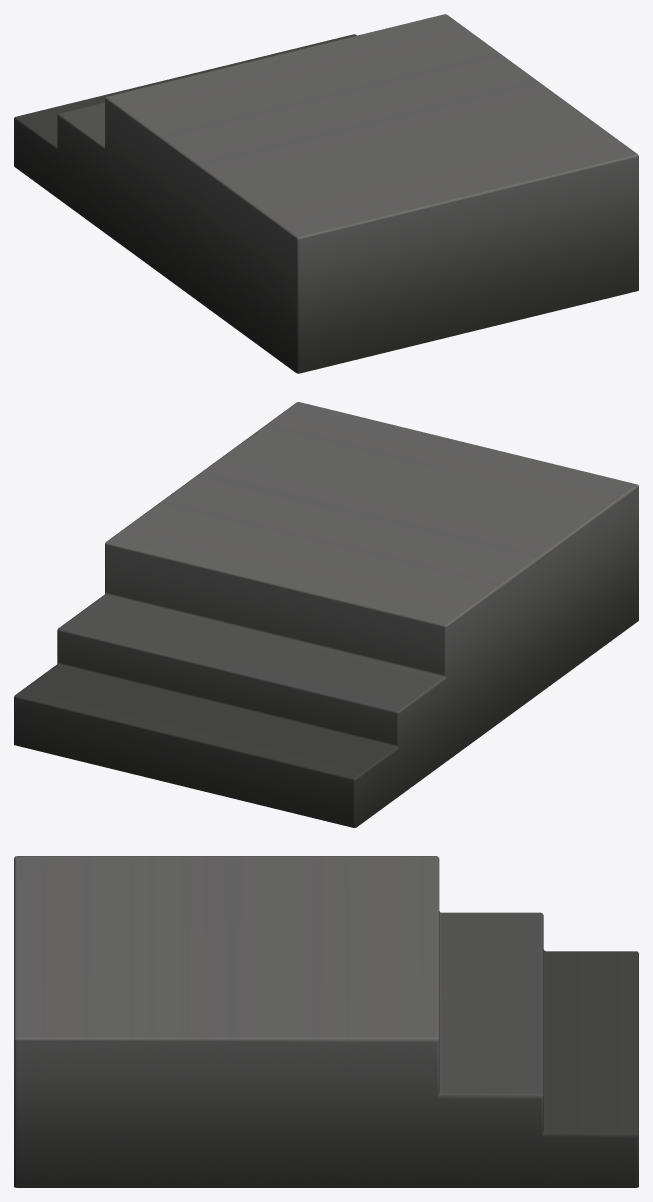
File: Escada Altar.fbx
The picture shows the model from 3 angles, top to bottom: view 1: azimuth 30°, elevation 25°; view 2: azimuth 150°, elevation 25°; view 3: azimuth 270°, elevation 25°; orthographic projection. The views are drawn at different scales.
Parts seen in each view (by area): view 1: Escada Altar; view 2: Escada Altar; view 3: Escada Altar.
Part boxes in pixels (bbox=[...]): Escada Altar: bbox=[14, 14, 638, 373]; Escada Altar: bbox=[14, 402, 638, 827]; Escada Altar: bbox=[14, 856, 638, 1187].
Bounding box in the file's own units: 188 × 71.42 × 271.
